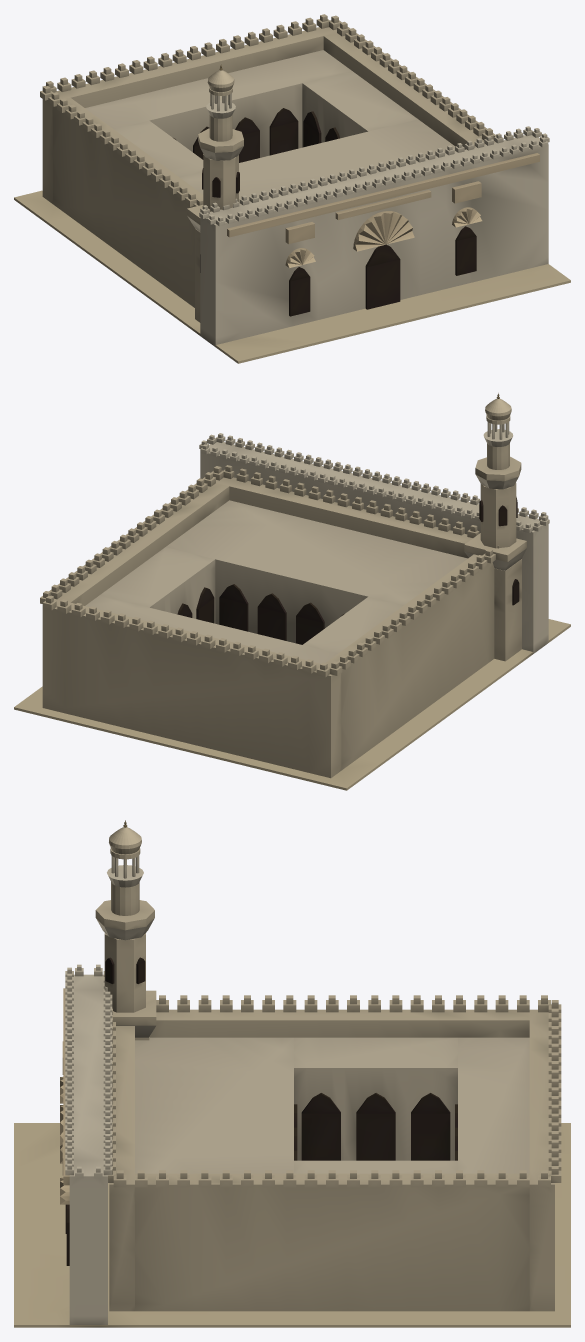
The model's file is al-aqmar.glb.
3 views of the same model, one above another, from view 1: azimuth 30°, elevation 25°; view 2: azimuth 150°, elevation 25°; view 3: azimuth 270°, elevation 25° (orthographic). The views are drawn at different scales.
Parts seen in each view (by area): view 1: p1_walls, p2_facade, p0_ground, p3_minaret; view 2: p1_walls, p2_facade, p3_minaret, p0_ground; view 3: p1_walls, p0_ground, p2_facade, p3_minaret.
Part boxes in pixels (box(x1,y1,x2,y2)): p1_walls: box(40, 14, 496, 307); p2_facade: box(199, 126, 549, 346); p0_ground: box(14, 190, 570, 363); p3_minaret: box(187, 64, 243, 322); p1_walls: box(40, 465, 499, 778); p2_facade: box(199, 433, 549, 653); p3_minaret: box(464, 393, 526, 661); p0_ground: box(14, 619, 570, 790); p1_walls: box(108, 995, 561, 1311); p0_ground: box(14, 1123, 570, 1327); p2_facade: box(60, 964, 112, 1324); p3_minaret: box(95, 820, 156, 1040).
Size of the model in its own units: 30.55 by 22.44 by 35.
